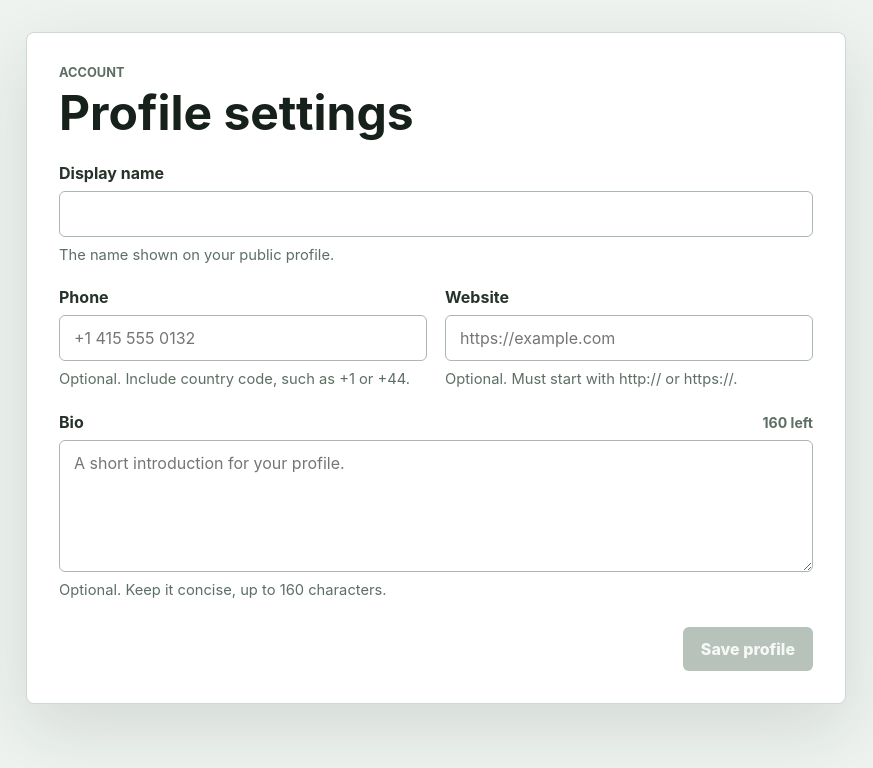
Profile settings form › preserves valid input values when another field is invalid
The width and height of the screenshot is (873, 768).
Type "Ada Lovelace" into the field labelled "Display name" at (436, 214), box 59,191 -> 813,237
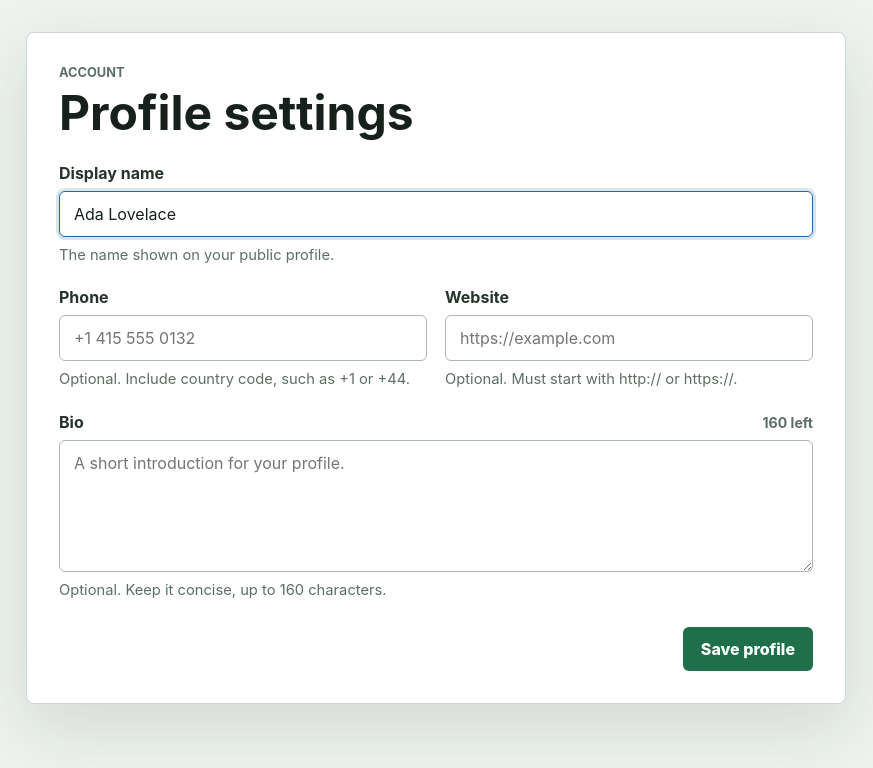
Type "+44 20 7946 0958" into the field labelled "Phone" at (243, 338), box 59,315 -> 427,361
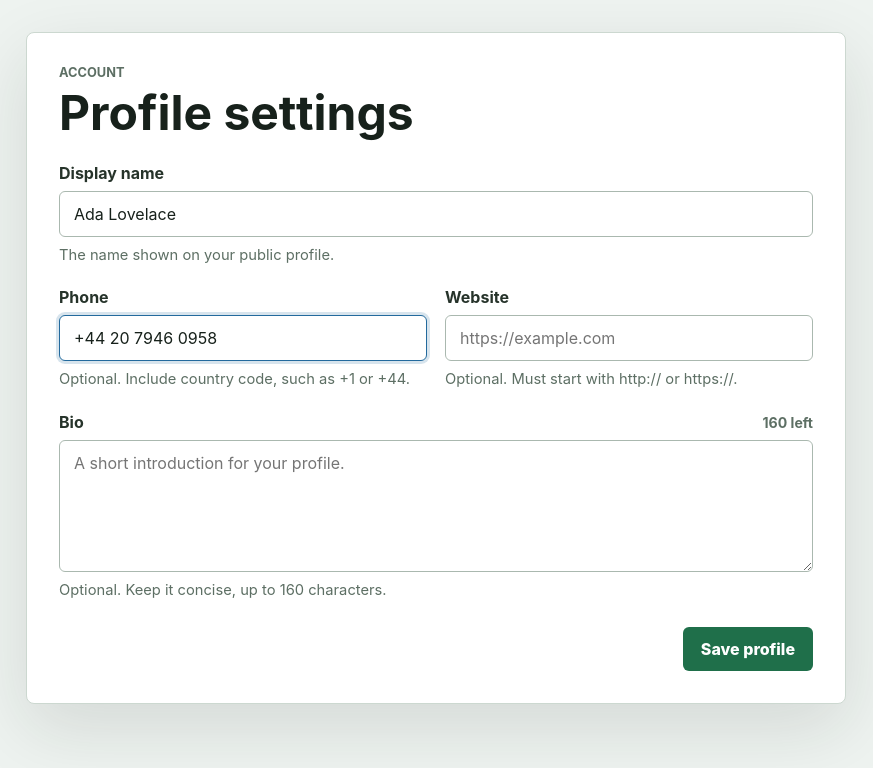
Type "Computing enthusiast." into the text box labelled "Bio" at (436, 506), box 59,440 -> 813,572
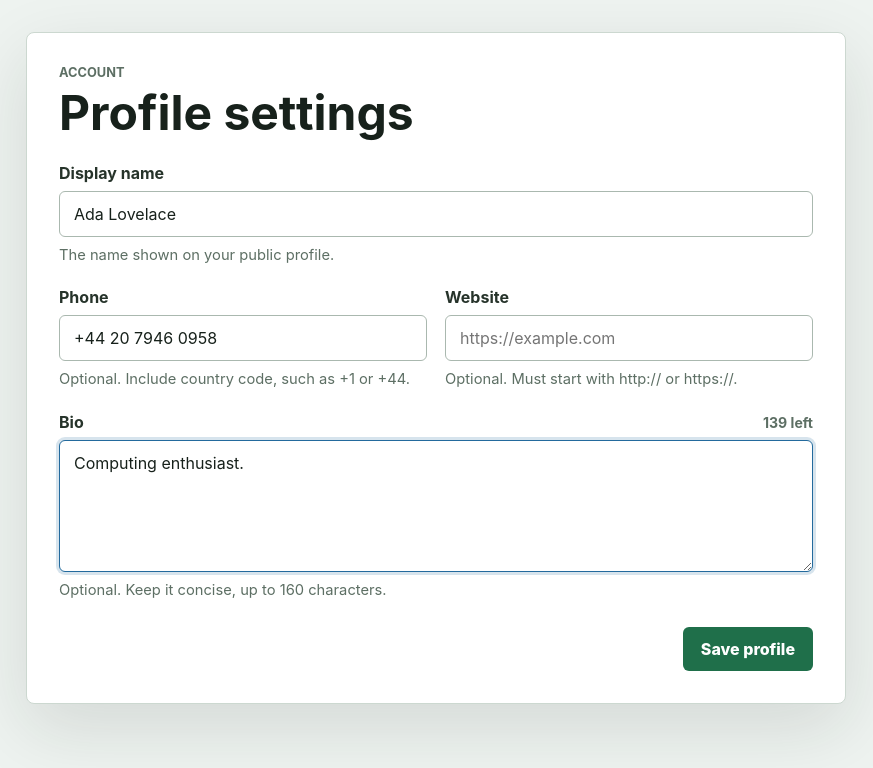
Type "example.com" into the field labelled "Website" at (629, 338), box 445,315 -> 813,361
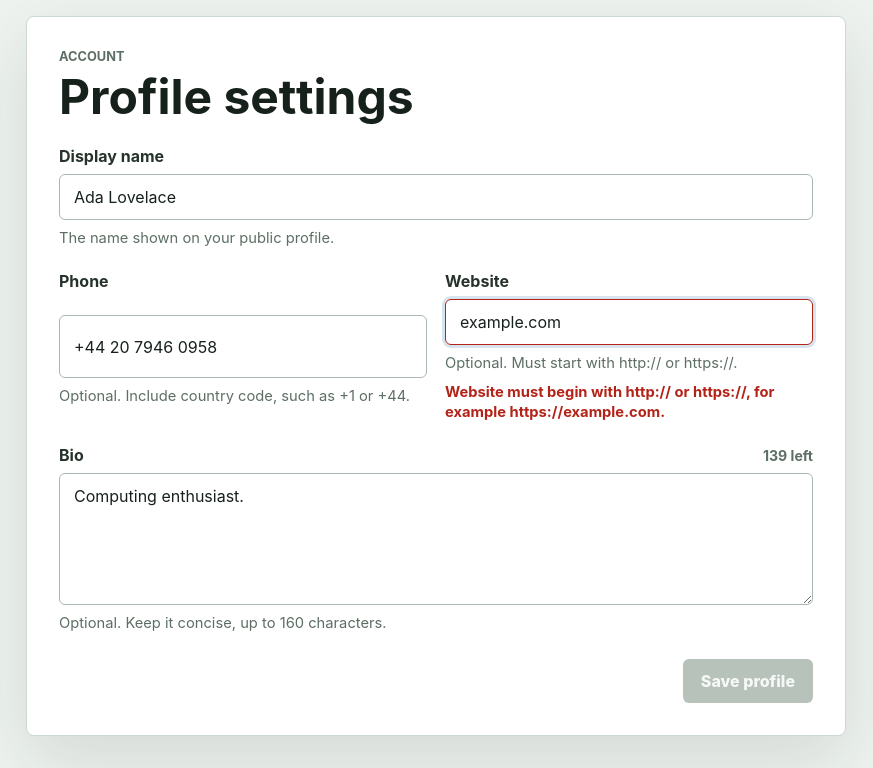
Expected: the button "Save profile" is disabled, 683,659 -> 813,703
